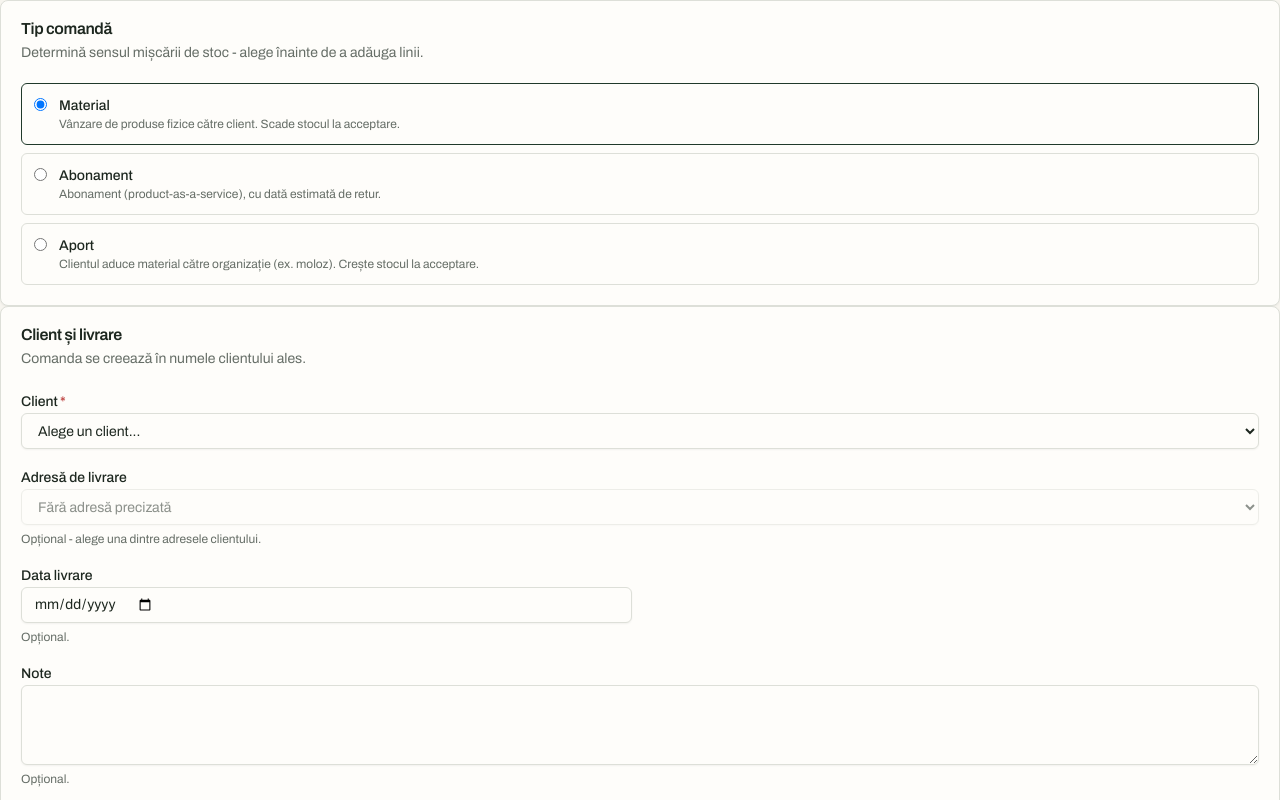
OrderEditor › data de retur estimat apare doar pentru tipul `serviciu`
The image size is (1280, 800).
Check: the field labelled "Retur estimat" is not shown
Click the radio button labelled "Abonament". click: [40, 174]
box: [34,168,47,181]
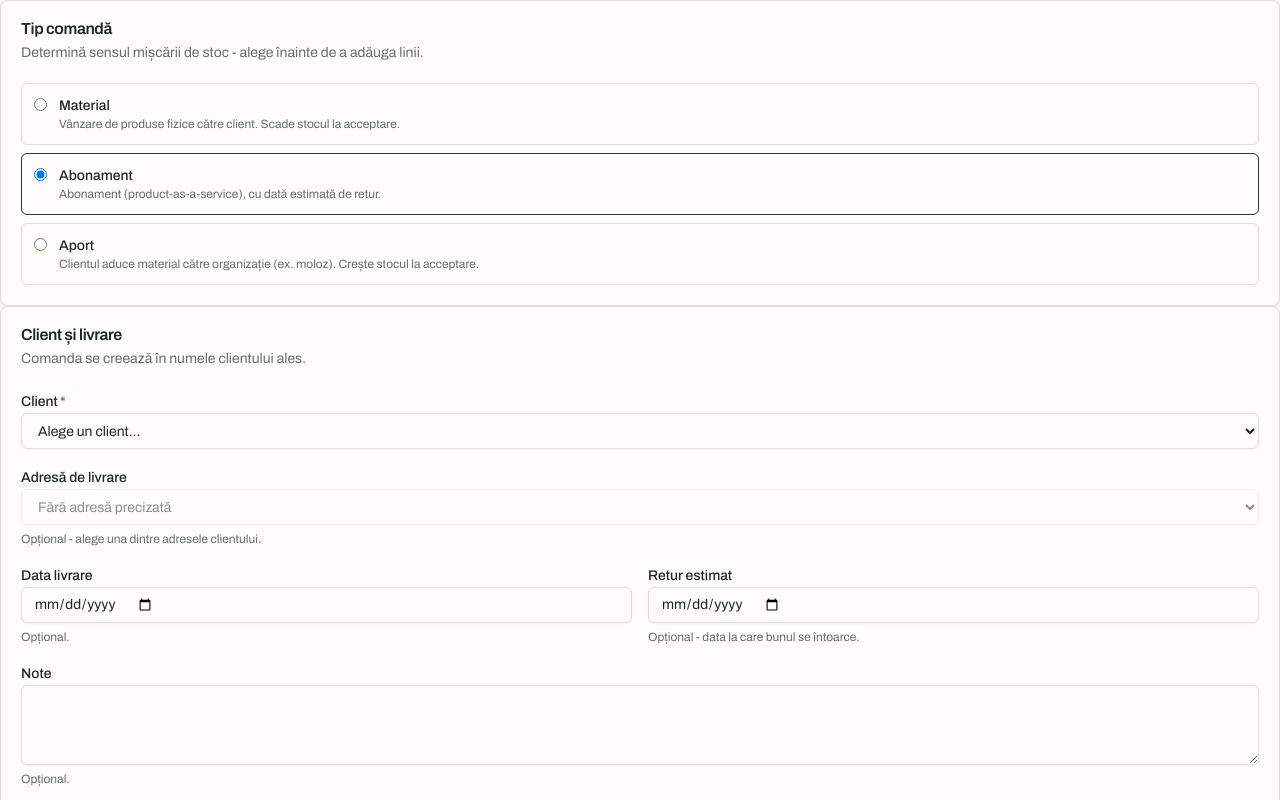
Check: the date field labelled "Retur estimat" is shown, box [648,587,1259,623]
